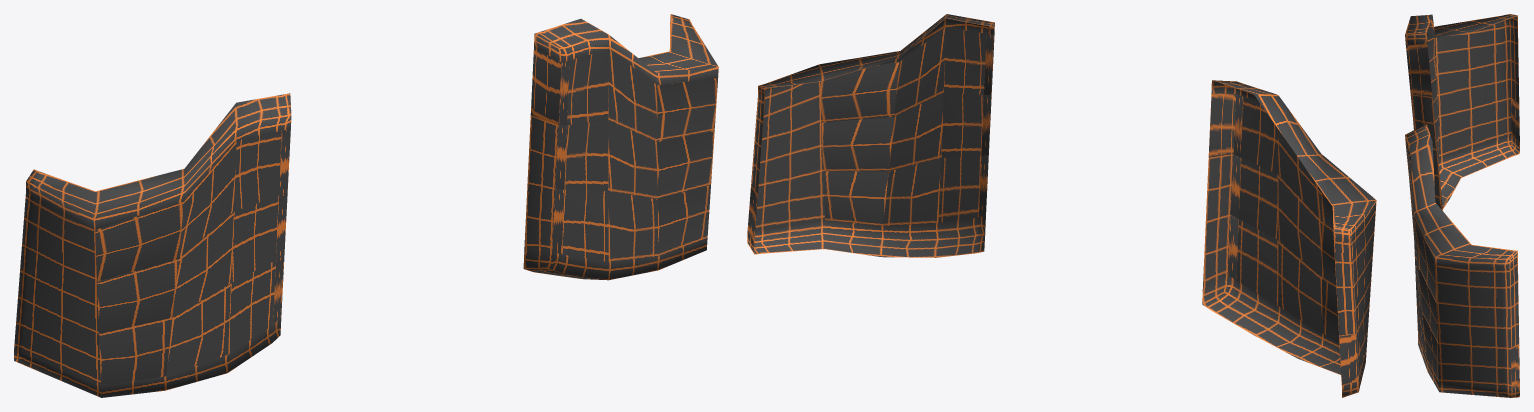
The model's file is BO_Sin1_polypoket_front.FBX.
The picture shows the model from 3 angles, left to right: view 1: azimuth 30°, elevation 25°; view 2: azimuth 150°, elevation 25°; view 3: azimuth 270°, elevation 25°; orthographic projection. The views are drawn at different scales.
Visible parts, largest first — view 1: Object003; view 2: Object003; view 3: Object003.
Part boxes in pixels (left/top/right/bottom): Object003: left=14, top=14, right=718, bottom=397; Object003: left=747, top=14, right=1376, bottom=397; Object003: left=1405, top=14, right=1519, bottom=397.
Bounding box in the file's own units: 52.51 × 20.06 × 10.07.
